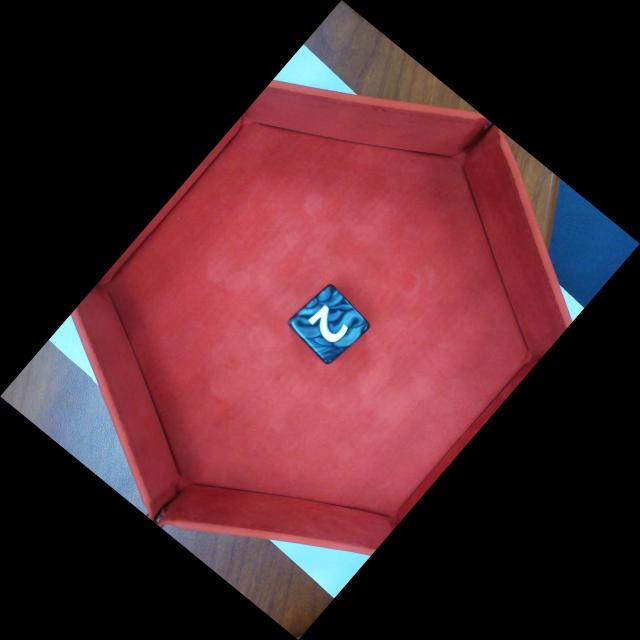dice: (283, 280, 374, 369)
